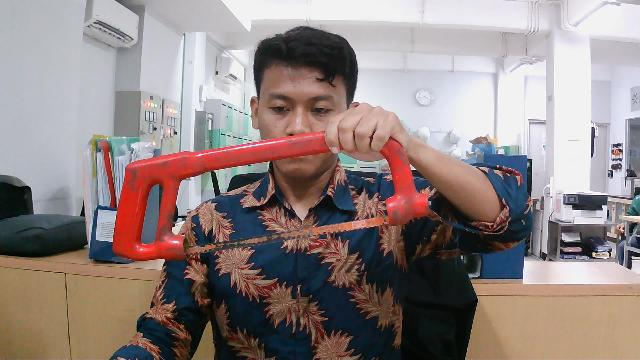gergaji_besi: (104, 123, 436, 267)
